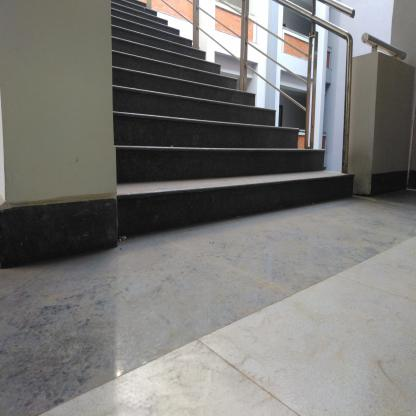stairs: (118, 62, 222, 243)
